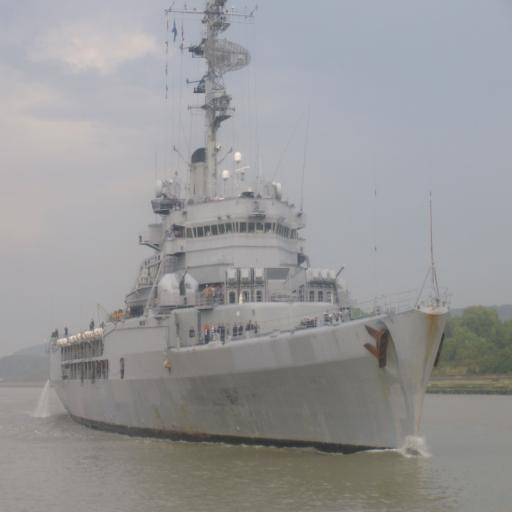Portanaves: (37, 2, 458, 455)
